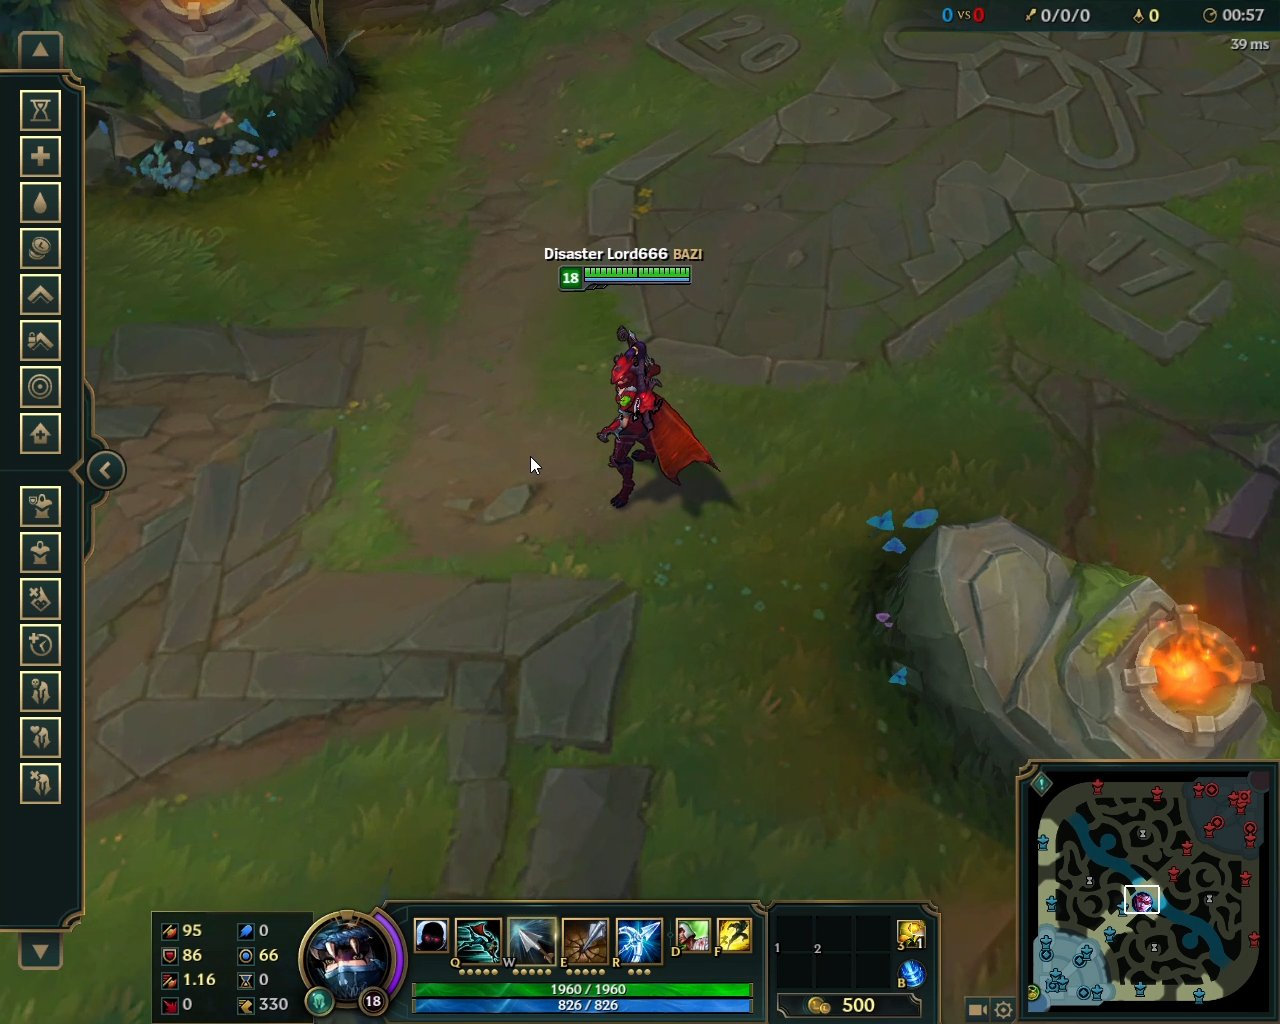Vayne: (577, 320, 721, 520)
